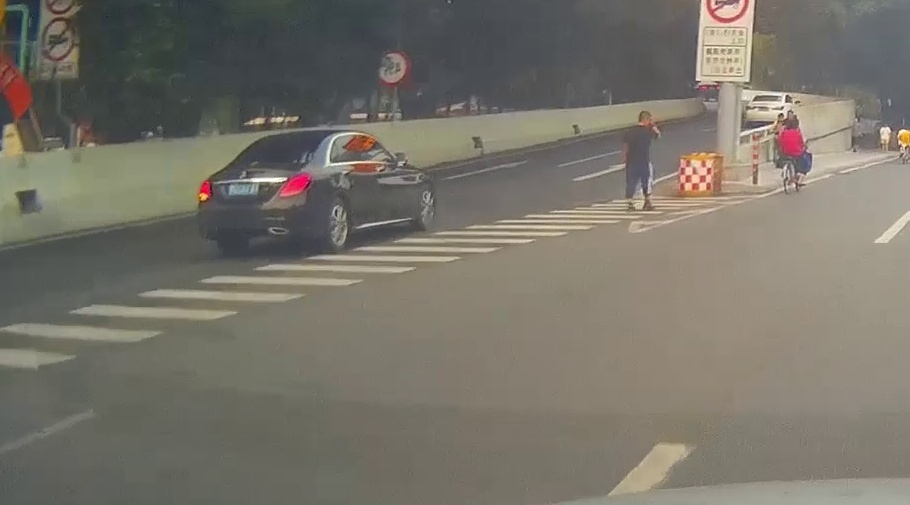L_light: (198, 180, 213, 202)
R_light: (279, 172, 311, 198)
T_light: (281, 139, 294, 142)
day-left: (197, 130, 326, 257)
